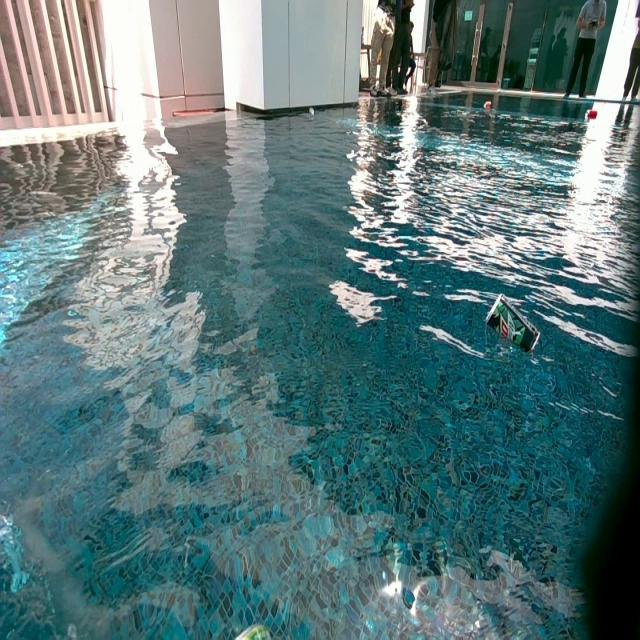Cans: (484, 292, 541, 355), (230, 622, 282, 640), (587, 108, 598, 120), (309, 106, 314, 117), (486, 100, 492, 108)
